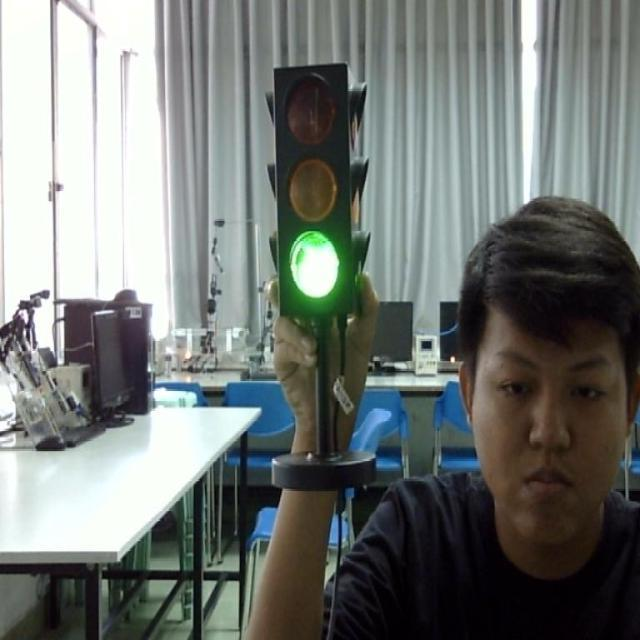green_light: (266, 62, 367, 319)
